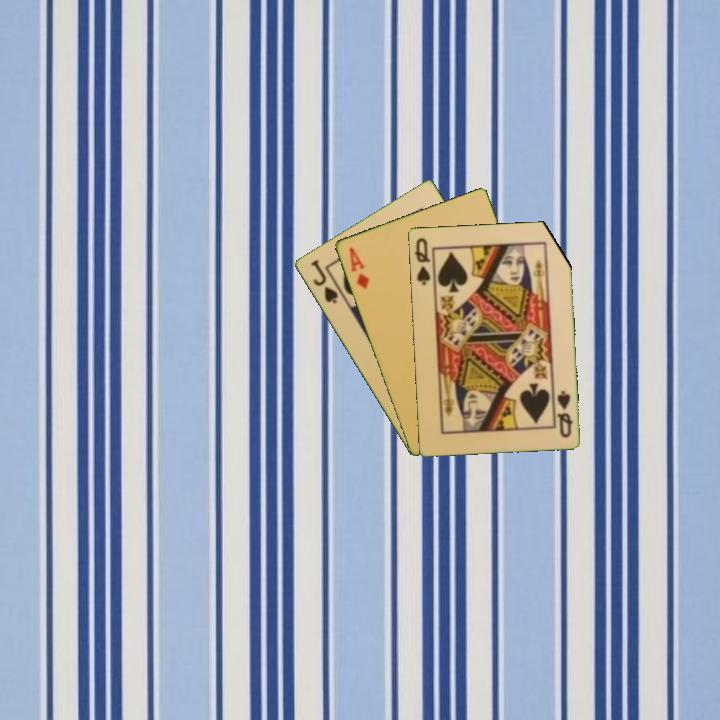Ad: (345, 243, 372, 291)
Js: (307, 256, 341, 307)
Qs: (410, 234, 433, 288), (553, 387, 575, 440)
